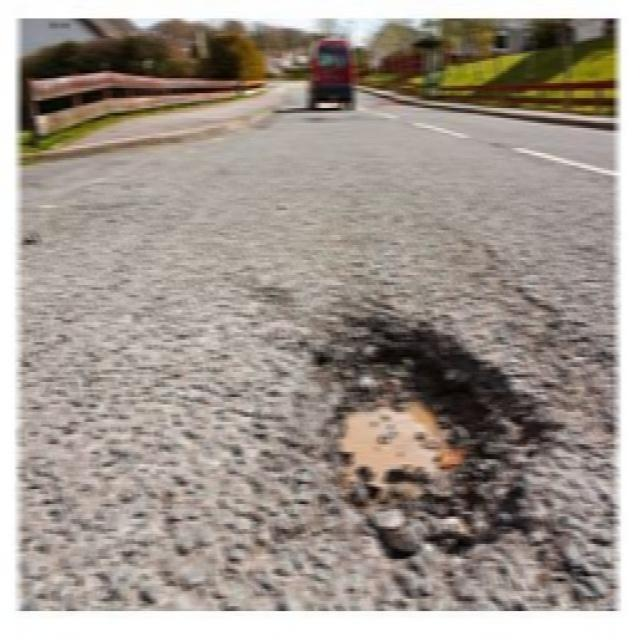Pothole: (276, 307, 564, 570)
